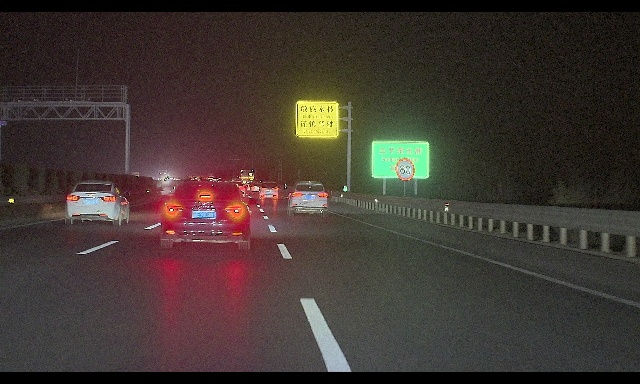car: (159, 181, 251, 250), (65, 180, 131, 226), (286, 180, 329, 218), (259, 181, 280, 200), (223, 181, 246, 198), (242, 183, 251, 191), (251, 185, 260, 192)
truck: (237, 170, 255, 187), (158, 170, 169, 181)
